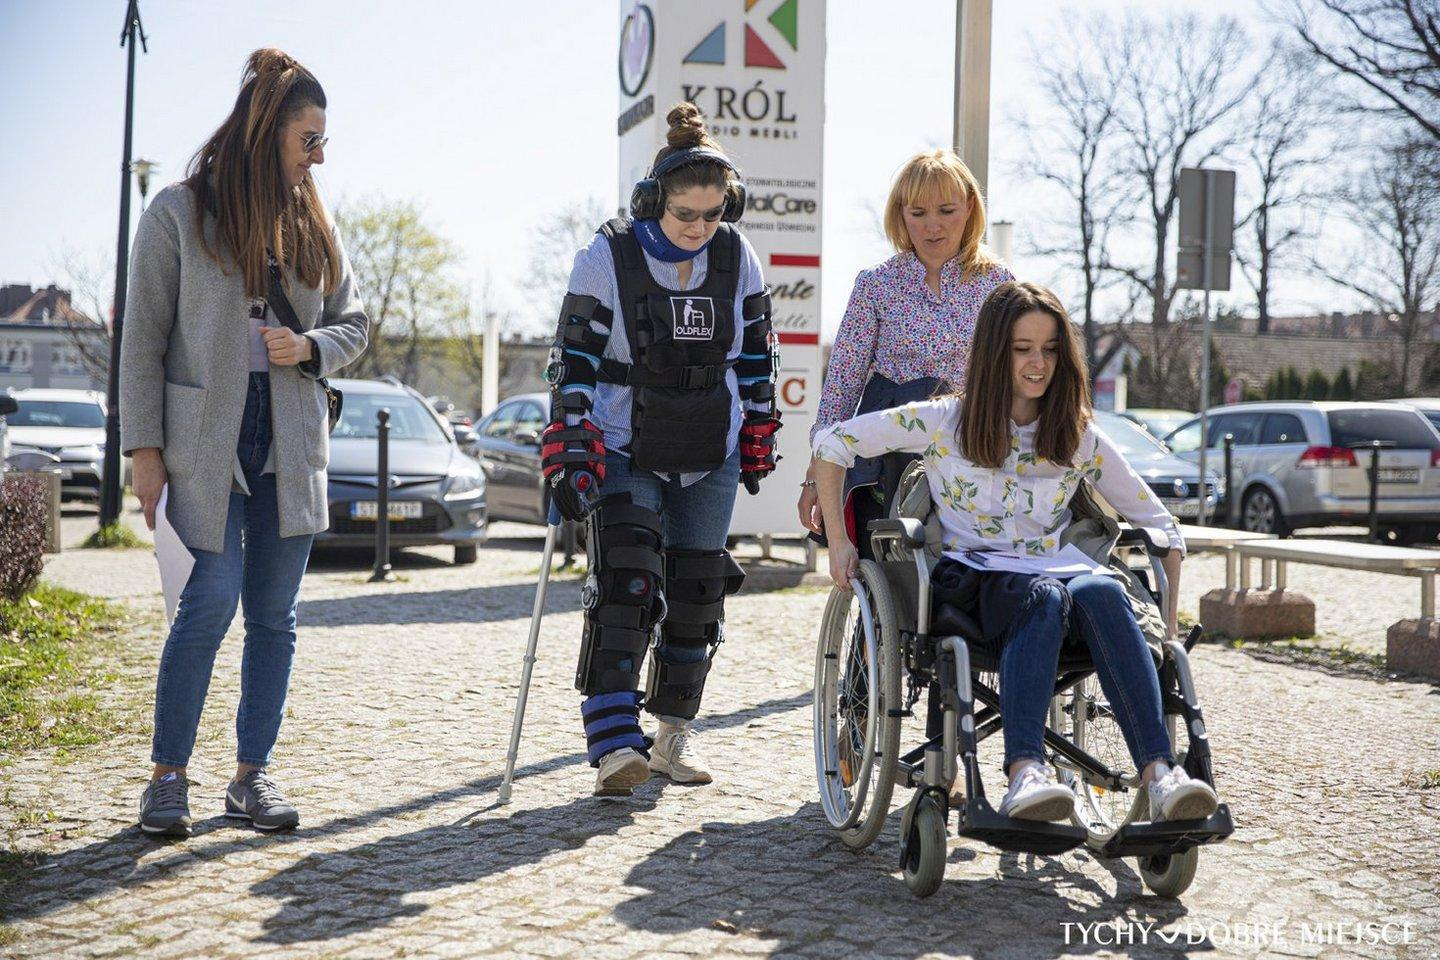crutches: (490, 104, 793, 841)
wheelchair: (805, 280, 1237, 921)
